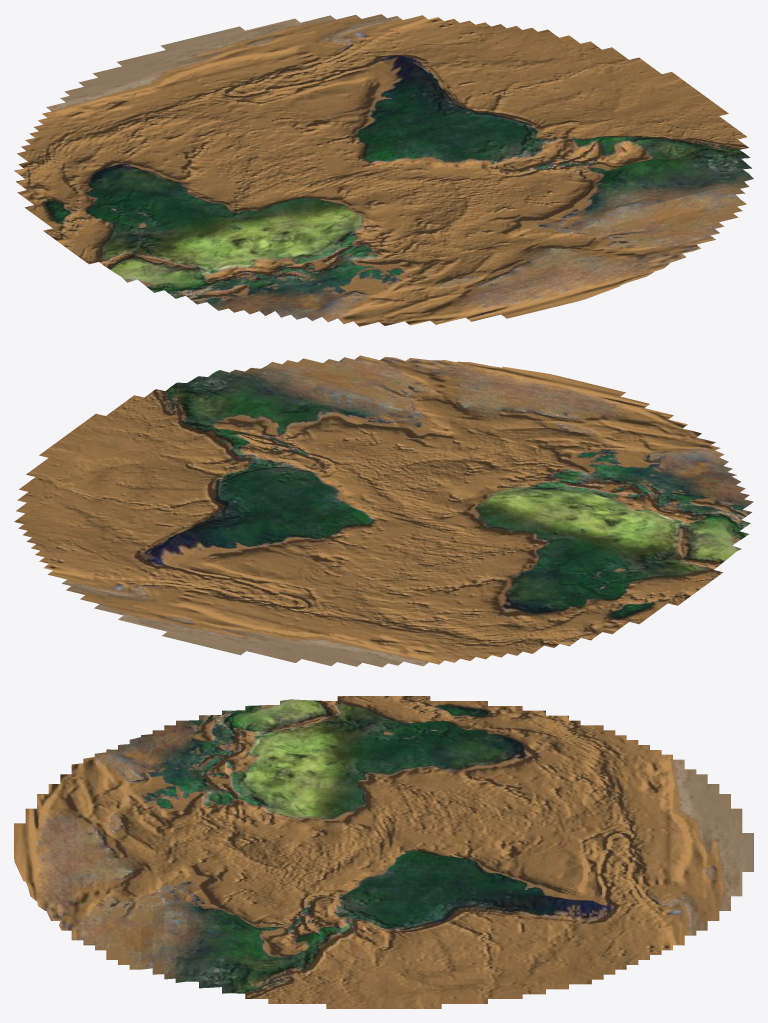
File: flatearth.fbx
3 views of the same model, one above another, from view 1: azimuth 30°, elevation 25°; view 2: azimuth 150°, elevation 25°; view 3: azimuth 270°, elevation 25° (orthographic).
Parts seen in each view (by area): view 1: FlatEarth; view 2: FlatEarth; view 3: FlatEarth.
Boxes of the visible parts, x1,y1,x2,y2 form: FlatEarth: [14, 14, 753, 326]; FlatEarth: [14, 355, 753, 667]; FlatEarth: [14, 696, 753, 1008].
Size of the model in its own units: 4 by 0.11 by 4.
Materials: 1 (1 with a texture image).
